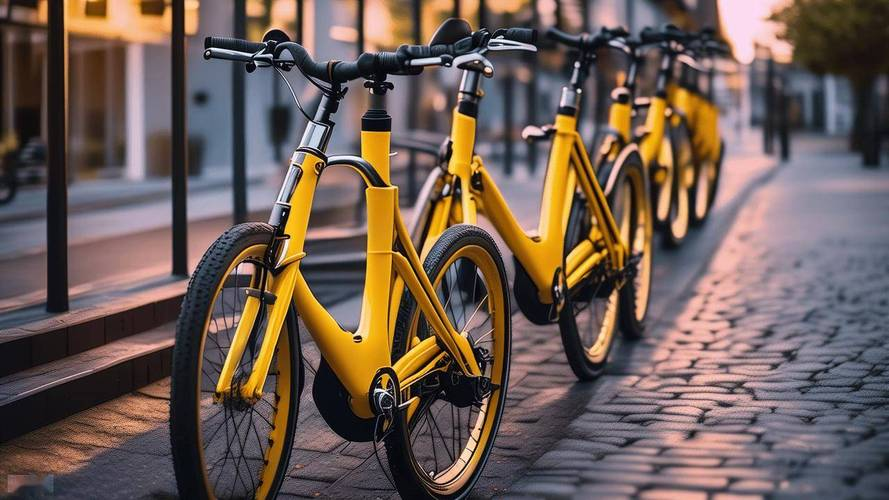单车: (167, 14, 519, 498)
